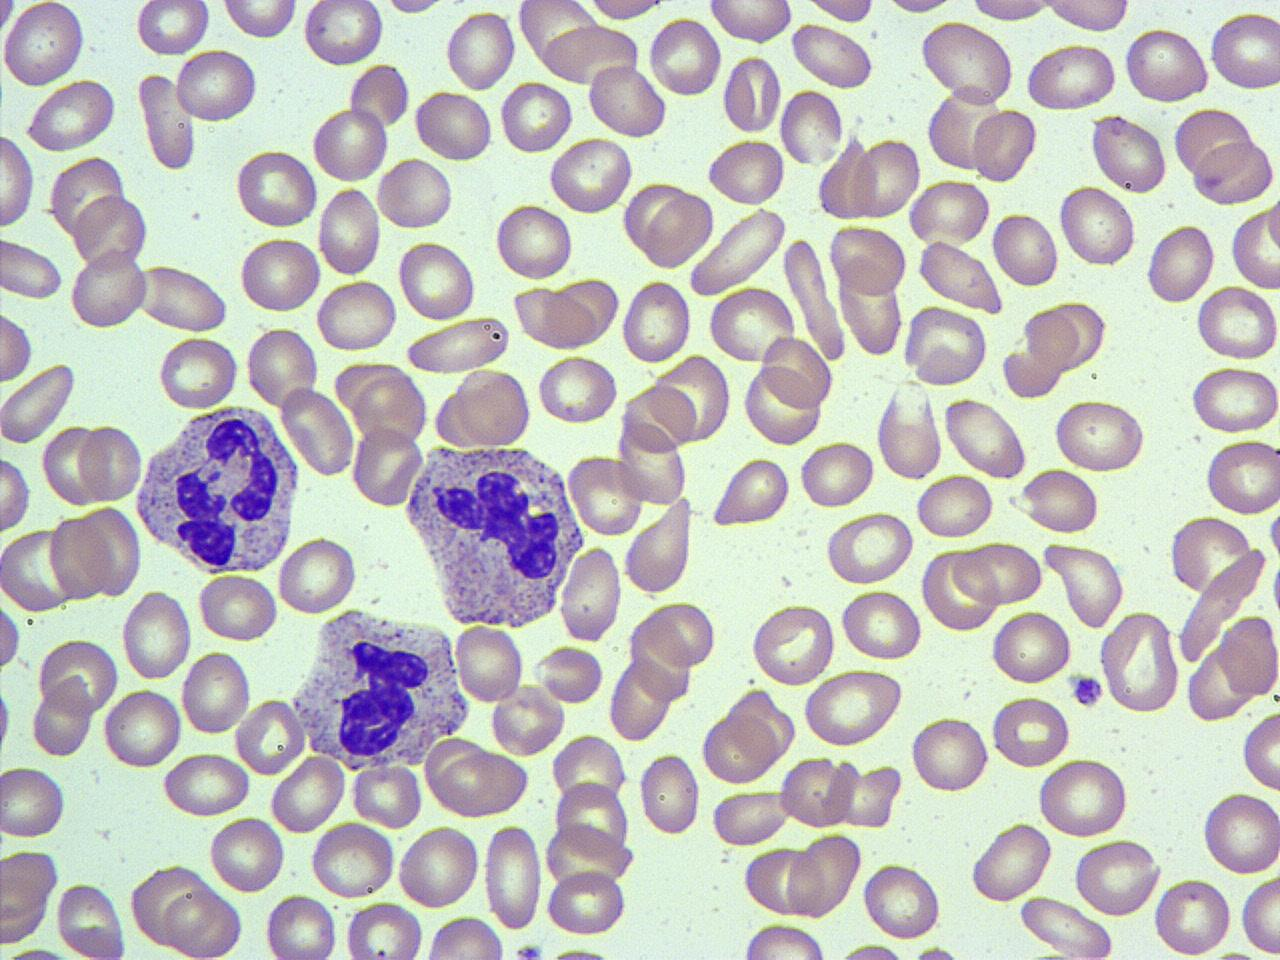Platelets: (1068, 672, 1106, 708), (511, 941, 546, 960)
RBC: (686, 202, 787, 301), (1100, 608, 1182, 714), (918, 18, 1014, 107), (801, 670, 906, 750), (394, 820, 482, 914), (1037, 754, 1131, 838), (1166, 512, 1256, 598), (706, 283, 798, 366), (750, 600, 837, 688), (2, 0, 86, 91), (1053, 396, 1149, 475), (656, 349, 734, 444), (67, 245, 151, 332), (1044, 541, 1128, 628), (279, 384, 356, 479), (1200, 788, 1280, 878), (740, 363, 824, 448), (274, 534, 360, 618), (902, 304, 988, 387), (546, 135, 635, 216), (119, 587, 193, 684), (238, 232, 322, 317), (942, 396, 1029, 478), (566, 450, 646, 538), (1121, 25, 1209, 105), (26, 77, 117, 154), (35, 636, 119, 720), (310, 819, 396, 901), (1152, 874, 1234, 960), (493, 199, 574, 284), (909, 711, 991, 797), (919, 546, 1000, 632), (397, 237, 478, 324), (1057, 182, 1137, 269), (1072, 838, 1162, 916), (1022, 40, 1119, 112), (989, 606, 1073, 688), (876, 379, 944, 480), (624, 495, 692, 596), (174, 45, 260, 126), (432, 750, 531, 820), (482, 820, 544, 930), (823, 508, 914, 584), (178, 646, 253, 738), (207, 812, 286, 897), (556, 544, 624, 644), (614, 419, 690, 508), (968, 822, 1050, 904), (861, 860, 945, 940), (102, 686, 181, 770), (402, 314, 511, 375), (135, 262, 230, 333), (235, 148, 317, 229), (0, 360, 79, 445), (244, 324, 321, 410), (915, 238, 1005, 312), (309, 104, 390, 186), (157, 333, 240, 412), (315, 276, 399, 355), (926, 86, 1000, 174), (1195, 282, 1277, 362), (1089, 112, 1168, 194), (786, 830, 862, 916), (646, 14, 722, 100), (452, 620, 527, 706), (1187, 364, 1279, 435), (352, 422, 426, 508), (586, 62, 668, 139), (1017, 894, 1115, 960), (270, 751, 346, 836), (848, 134, 922, 220), (1171, 105, 1255, 181), (708, 454, 792, 528), (743, 842, 828, 916), (1208, 6, 1280, 94), (621, 278, 692, 366), (375, 154, 455, 233), (412, 87, 494, 163), (76, 502, 142, 596), (554, 776, 628, 861), (445, 7, 517, 94), (1145, 221, 1217, 308), (455, 367, 532, 447), (138, 70, 198, 173), (839, 587, 922, 661), (536, 353, 620, 427), (196, 572, 280, 644), (317, 183, 382, 277), (73, 192, 150, 270), (828, 223, 908, 299), (498, 77, 574, 156), (990, 694, 1070, 769), (1203, 436, 1279, 516), (511, 284, 601, 352), (758, 333, 834, 412), (161, 750, 250, 818), (606, 656, 676, 741), (45, 510, 112, 600), (790, 21, 876, 91), (956, 541, 1044, 608), (703, 135, 786, 207), (1192, 136, 1276, 207), (354, 371, 430, 448), (234, 696, 306, 776), (990, 209, 1060, 290), (40, 419, 106, 507), (544, 867, 628, 936), (907, 178, 991, 247), (54, 881, 128, 959), (701, 711, 780, 784), (914, 471, 996, 541), (302, 0, 385, 69), (638, 750, 702, 838), (76, 421, 143, 504), (490, 683, 564, 758), (799, 438, 876, 511), (1022, 465, 1101, 536), (620, 382, 697, 454), (1220, 610, 1280, 702), (162, 888, 242, 958), (970, 106, 1039, 185), (777, 756, 851, 830), (644, 192, 714, 269), (0, 762, 68, 842), (779, 85, 845, 166), (642, 598, 716, 670), (31, 676, 95, 758), (350, 762, 424, 832), (721, 53, 782, 135), (343, 899, 425, 960), (265, 891, 337, 960), (709, 788, 789, 847), (1229, 197, 1279, 291), (348, 61, 412, 131), (133, 0, 212, 57), (1, 234, 66, 304), (533, 646, 608, 706), (703, 0, 796, 46), (1046, 299, 1108, 369), (1023, 303, 1083, 372), (423, 914, 504, 960), (0, 129, 36, 230), (1238, 872, 1280, 957), (738, 922, 830, 960), (1240, 706, 1280, 794), (219, 0, 299, 41), (1039, 0, 1135, 34), (0, 451, 34, 534), (0, 307, 34, 385), (580, 0, 679, 24), (965, 0, 1060, 24), (800, 0, 879, 25), (0, 598, 22, 681), (882, 0, 952, 17)
WBC: (399, 438, 588, 630), (285, 604, 473, 775), (130, 403, 304, 576)
